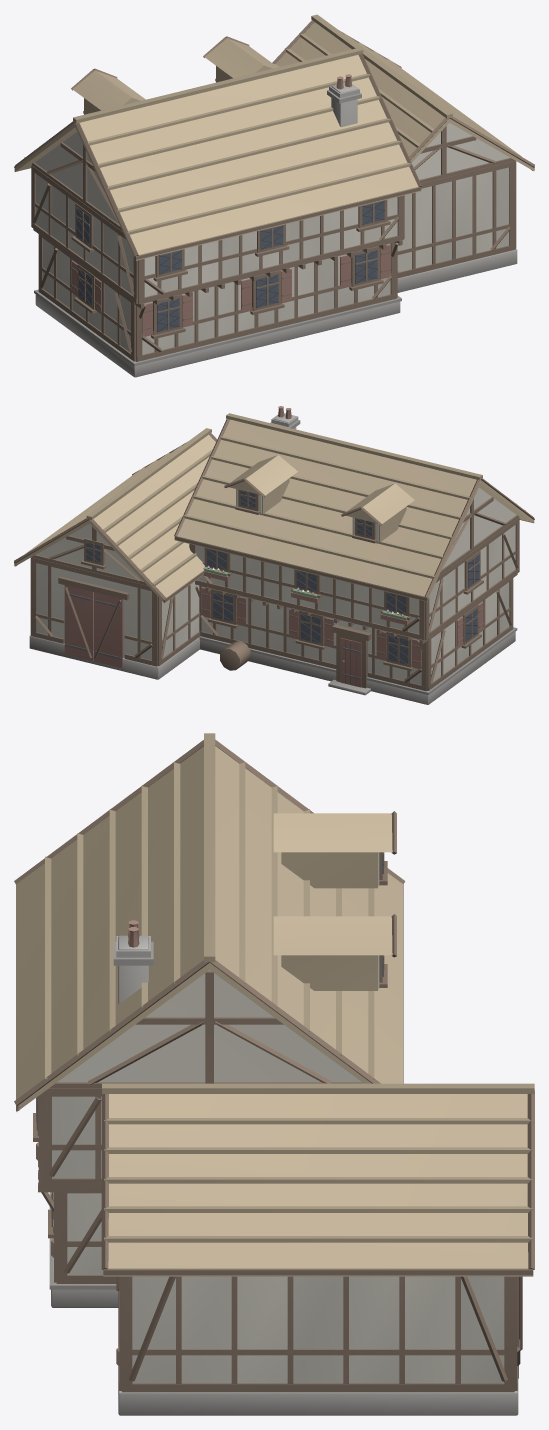
Rendered from farmhouse.gltf.
The picture shows the model from 3 angles, top to bottom: view 1: azimuth 30°, elevation 25°; view 2: azimuth 150°, elevation 25°; view 3: azimuth 270°, elevation 25°; orthographic projection. The views are drawn at different scales.
Parts seen in each view (by area): view 1: Body; view 2: Body; view 3: Body.
Boxes of the visible parts, x1,y1,x2,y2 form: Body: (14,14,534,377); Body: (14,406,534,704); Body: (14,733,534,1415).
Bounding box in the file's own units: 18.14 × 9.14 × 11.99.
